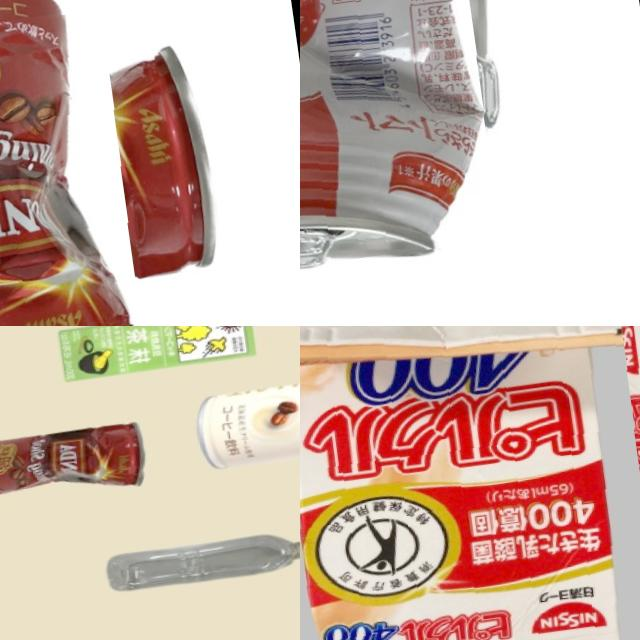Aluminium Foil: (300, 326, 640, 640), (46, 326, 263, 390)
Can: (300, 0, 517, 288), (0, 1, 189, 326), (0, 412, 157, 508), (187, 359, 300, 483)
Transparent Plastic Bottle: (91, 524, 300, 603)
